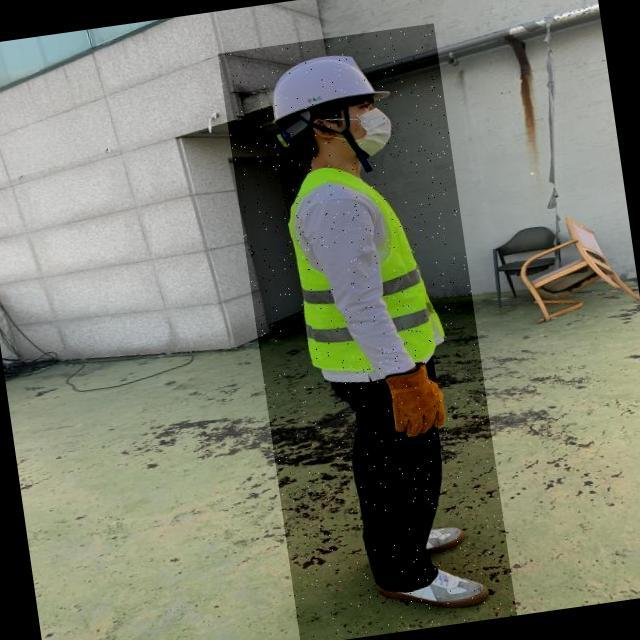Gloves: (385, 362, 454, 445)
Helmet: (265, 48, 391, 125)
Person: (240, 34, 540, 639)
Safety Boot: (375, 563, 493, 620), (420, 525, 469, 556)
Safety Vest: (283, 156, 449, 376)
